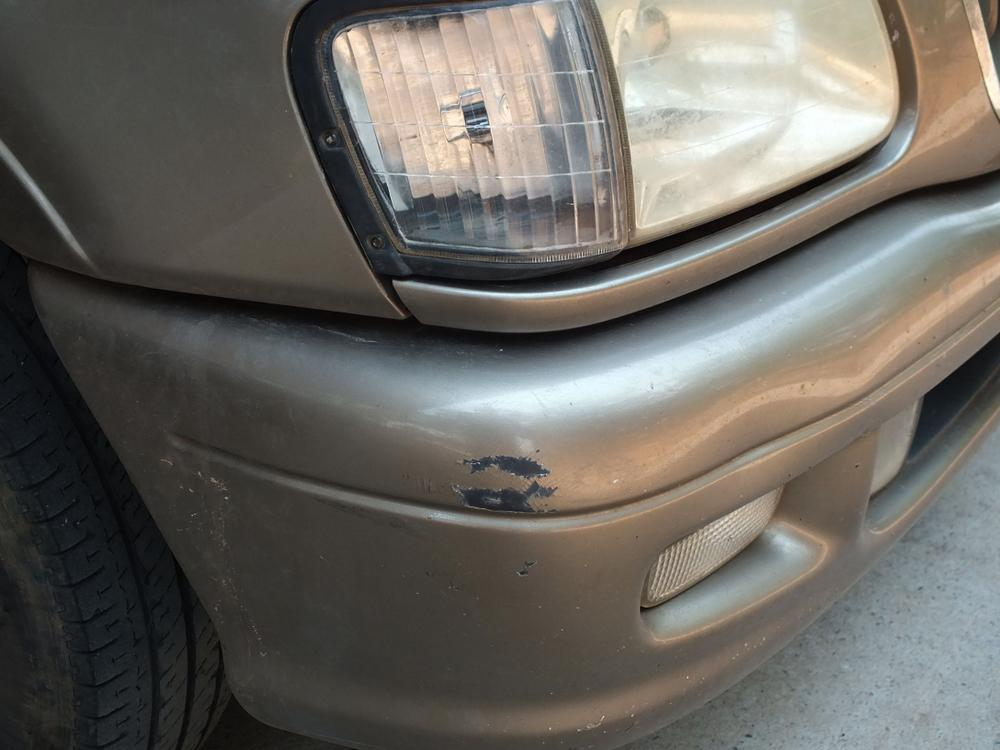scratch: (450, 446, 572, 518), (515, 554, 541, 580)
